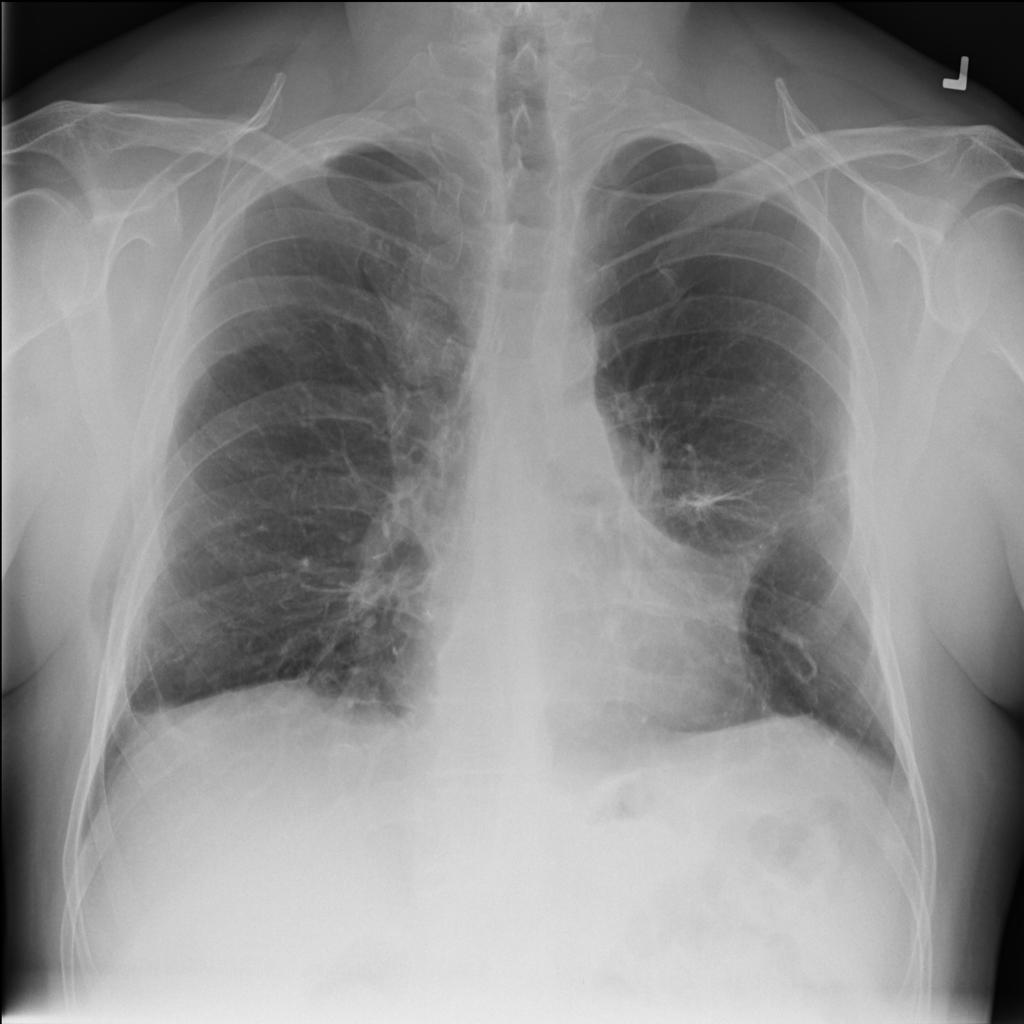nodule: (366, 279, 477, 395)
